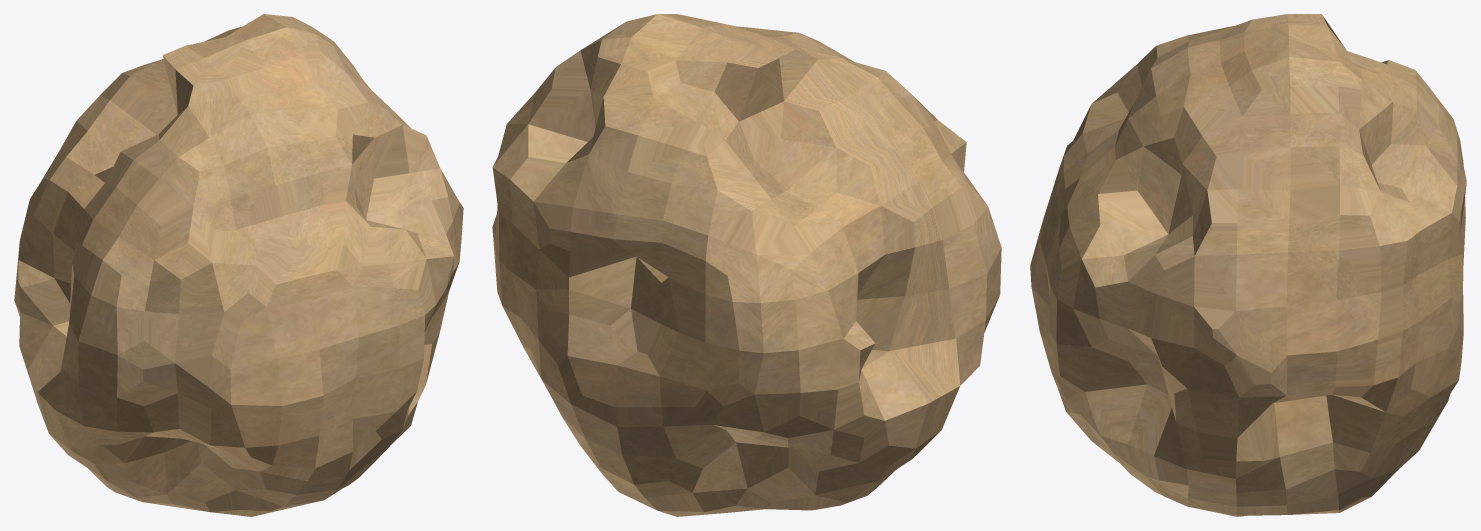
Rendered from asteroida.glb.
3 views of the same model, side by side, from view 1: azimuth 30°, elevation 25°; view 2: azimuth 150°, elevation 25°; view 3: azimuth 270°, elevation 25° (orthographic). The views are drawn at different scales.
Parts seen in each view (by area): view 1: Sphere; view 2: Sphere; view 3: Sphere.
Part boxes in pixels (bbox=[...]): Sphere: bbox=[14, 14, 463, 516]; Sphere: bbox=[492, 14, 1001, 516]; Sphere: bbox=[1030, 14, 1466, 516].
Bounding box in the file's own units: 16.77 × 17.72 × 15.02.
Materials: 1 (1 with a texture image).
